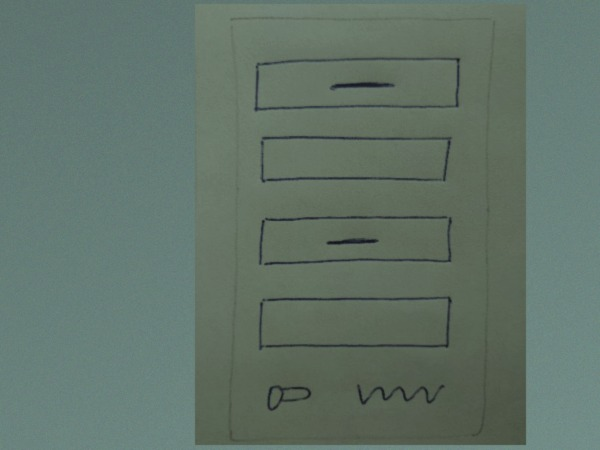button: (249, 208, 464, 275), (249, 52, 463, 119)
switch: (259, 381, 317, 415)
text: (347, 372, 452, 414)
text_input: (252, 131, 458, 192), (251, 293, 456, 353)
